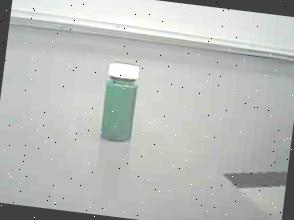Bottle C: (90, 57, 150, 153)
